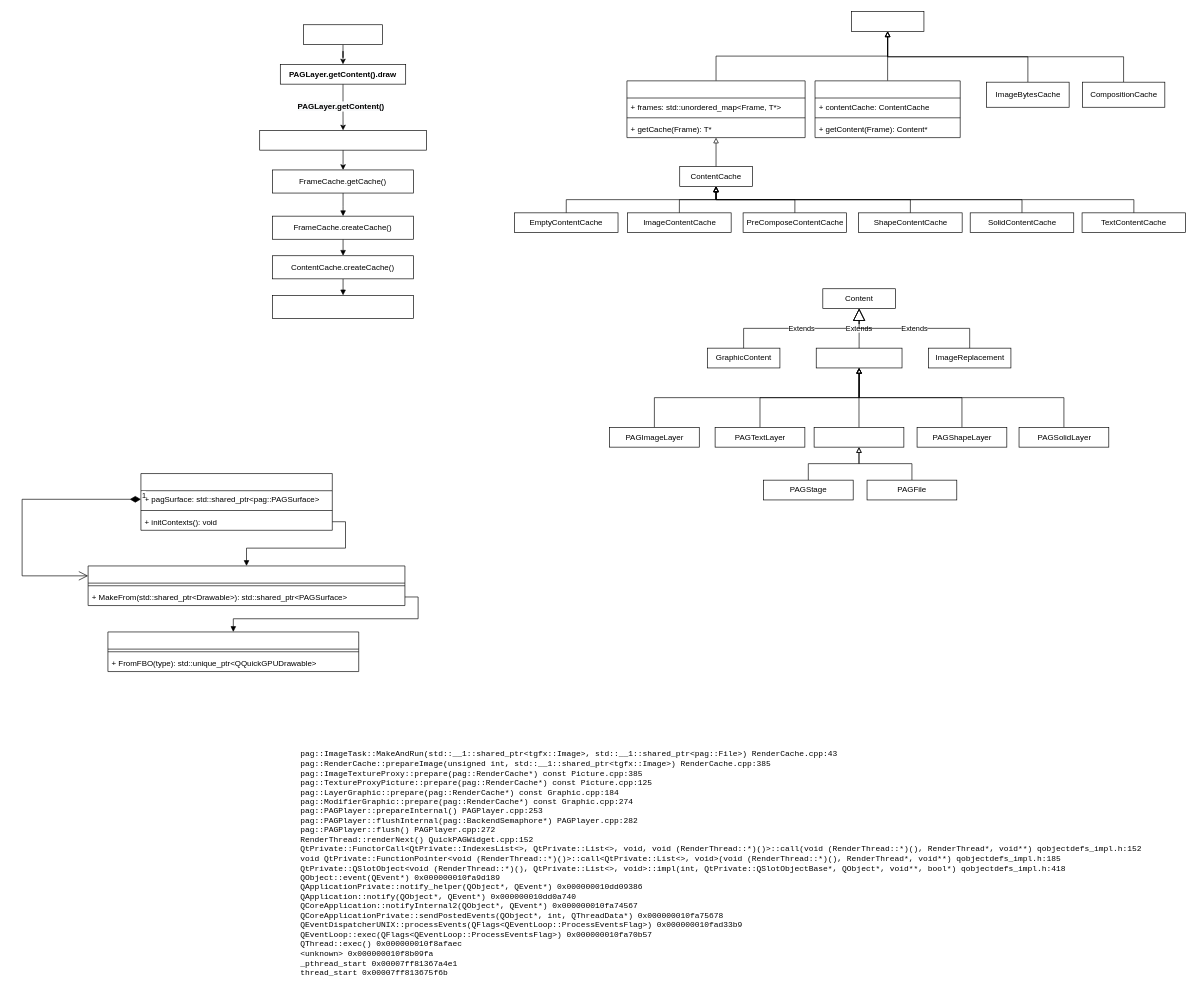
This 1197x1000 diagram has some shape labels left out. The box of each missing label's shape, as (x1, y1, x2, y2) in pixels:
Cache: (851, 11, 924, 31)
ContentCache.createContent(): (272, 295, 414, 318)
FrameCache: (626, 80, 805, 138)
LayerCache: (814, 80, 960, 138)
LayerCache.getContent(contentFrame): (259, 130, 426, 150)
PAGComposition: (813, 427, 904, 447)
PAGLayer: (816, 347, 902, 368)
PAGLayer.draw(): (303, 24, 383, 45)
PAGSurface: (87, 565, 405, 606)
QQuickGPUDrawable: (107, 631, 359, 672)
QuickPAGWidget: (140, 473, 332, 530)
